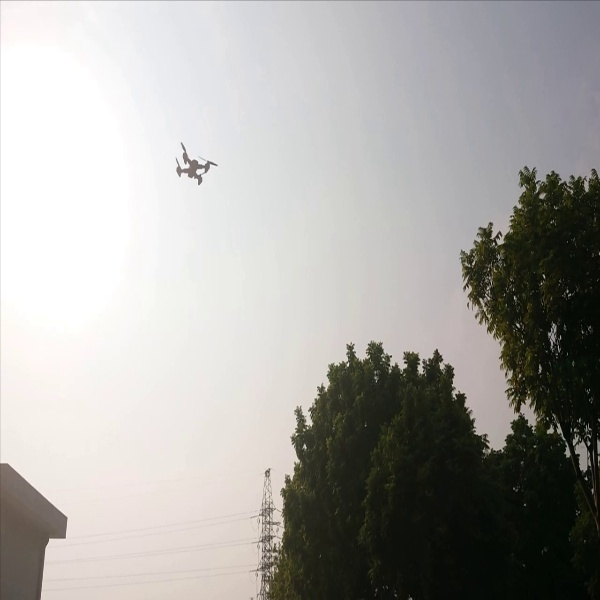drone: (167, 132, 219, 192)
